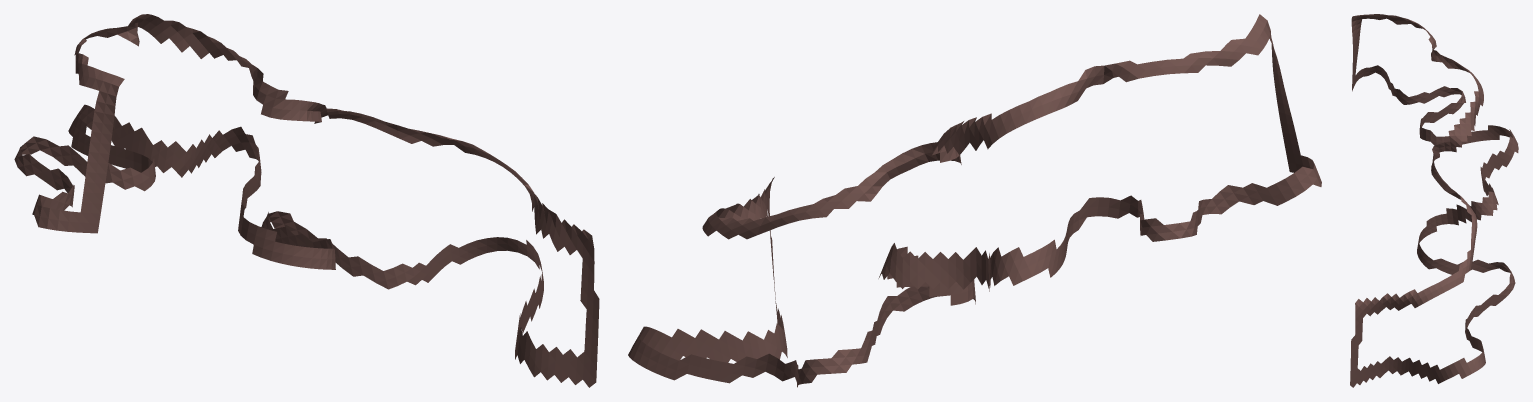
File: selected_mesh8.obj
3 views of the same model, side by side, from view 1: azimuth 30°, elevation 25°; view 2: azimuth 150°, elevation 25°; view 3: azimuth 270°, elevation 25° (orthographic). The views are drawn at different scales.
Size of the model in its own units: 0.9024 by 0.6252 by 0.3954.
